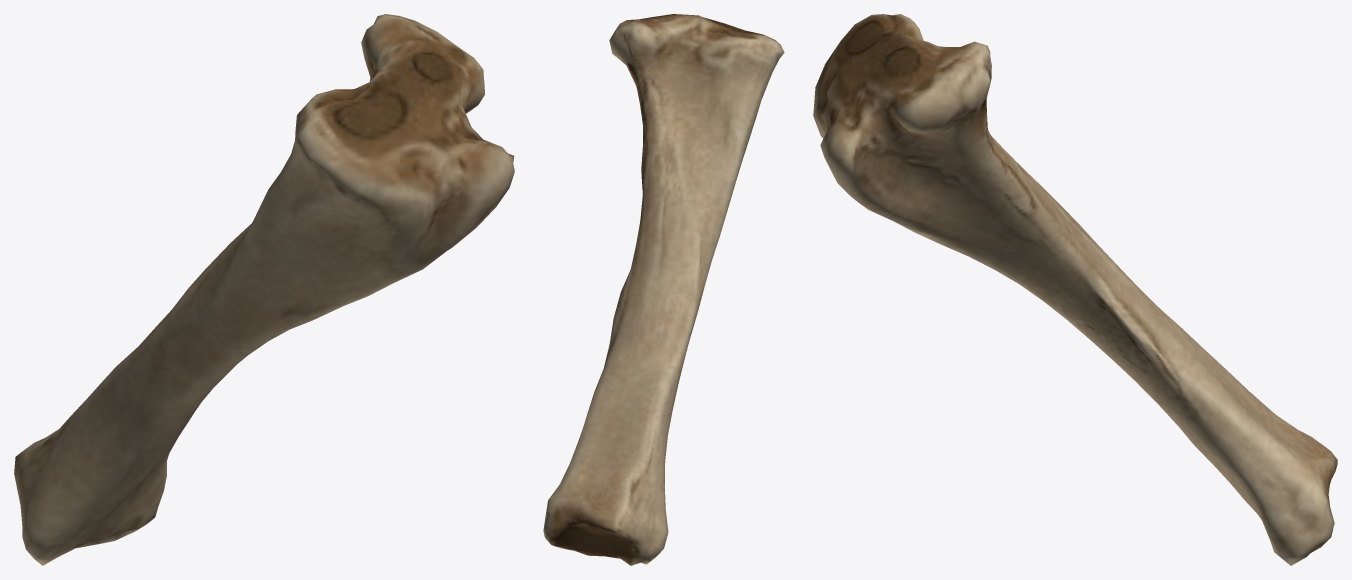
File: Tibia.glb
3 views of the same model, side by side, from view 1: azimuth 30°, elevation 25°; view 2: azimuth 150°, elevation 25°; view 3: azimuth 270°, elevation 25° (orthographic). The views are drawn at different scales.
Visible parts, largest first — view 1: L_Bck_Tibia; view 2: L_Bck_Tibia; view 3: L_Bck_Tibia.
Part boxes in pixels (x1,y1,x2,y2): L_Bck_Tibia: (14,14,514,565); L_Bck_Tibia: (543,14,784,565); L_Bck_Tibia: (813,14,1337,565).
Bounding box in the file's own units: 0.1333 × 0.3071 × 0.2642.
1 material, 1 textured.
